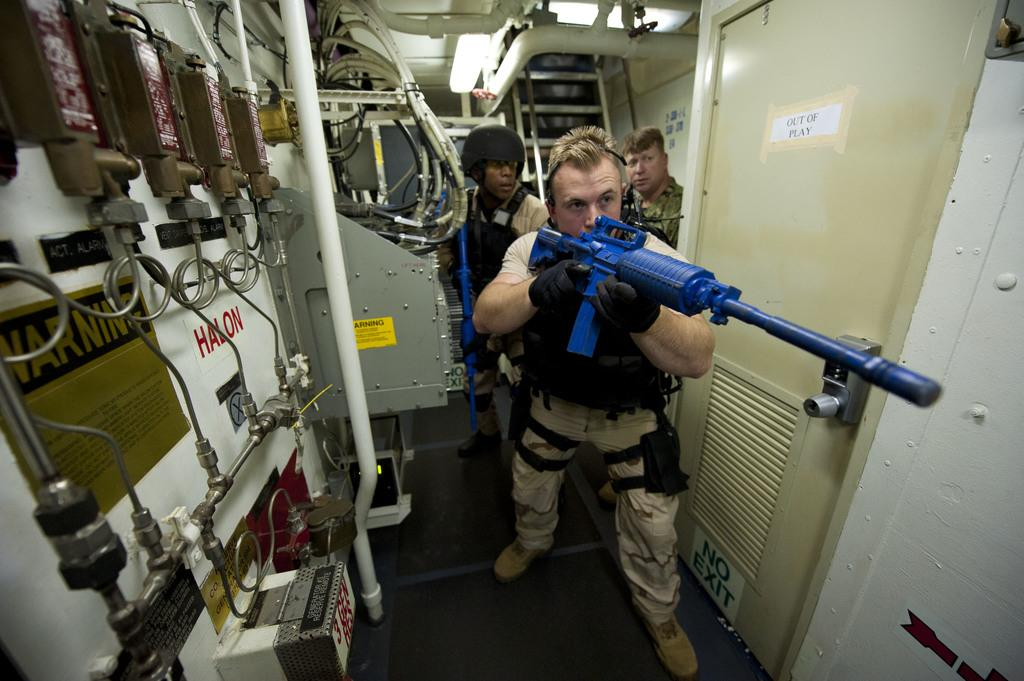Rifle: (495, 198, 946, 463)
